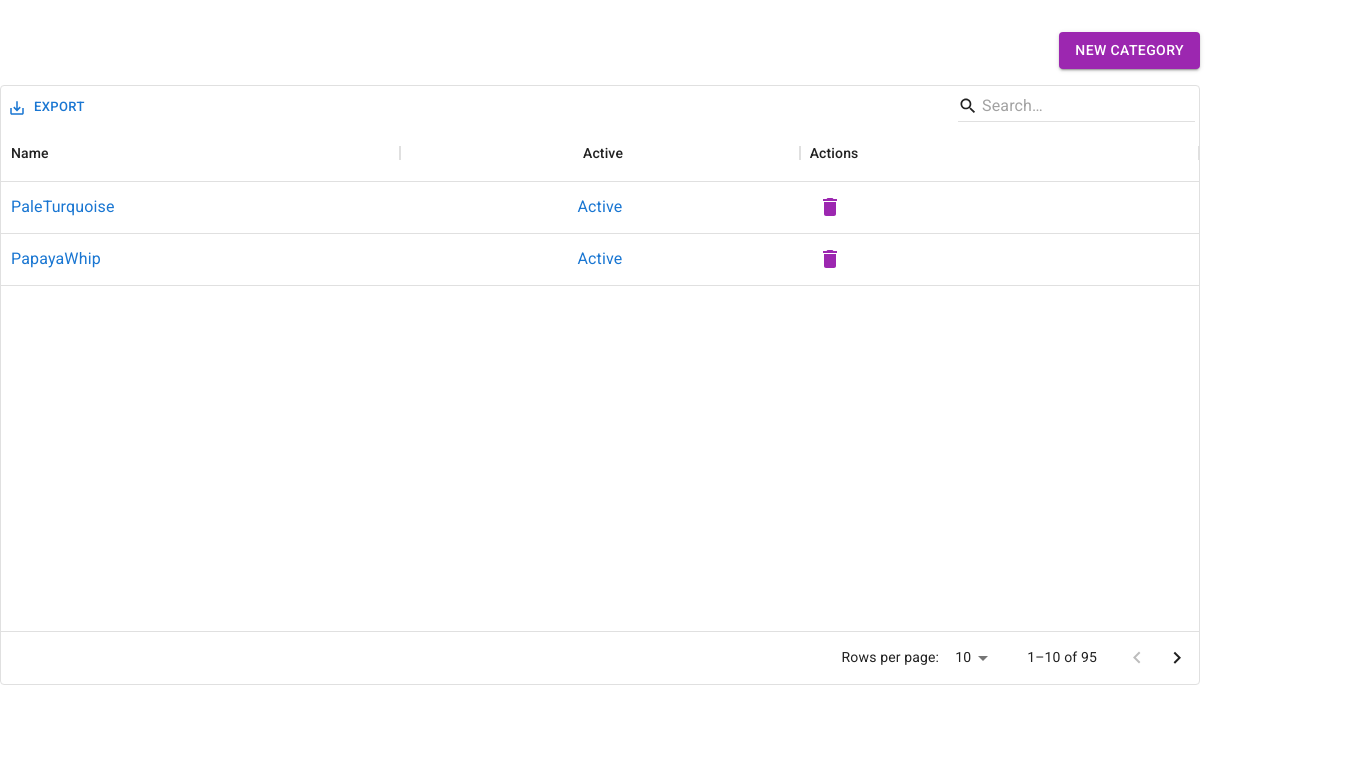
Test: CategoryList › should handle On PageChange
Expected: the text "PaleTurquoise" is shown, [11,195,115,219]
Click the button with test id "KeyboardArrowRightIcon": (1177, 658) [1157,638,1197,678]
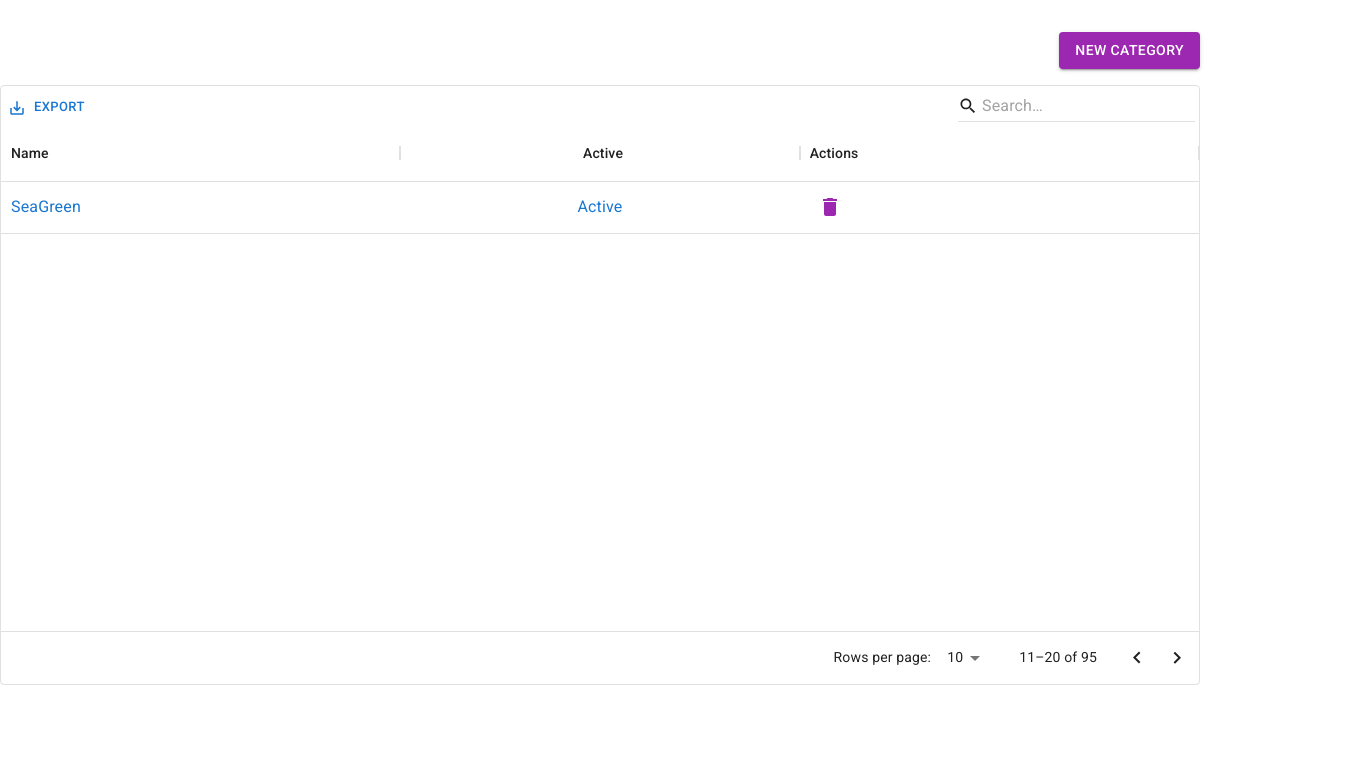
Now the text "SeaGreen" is shown, box [11,195,81,219]
